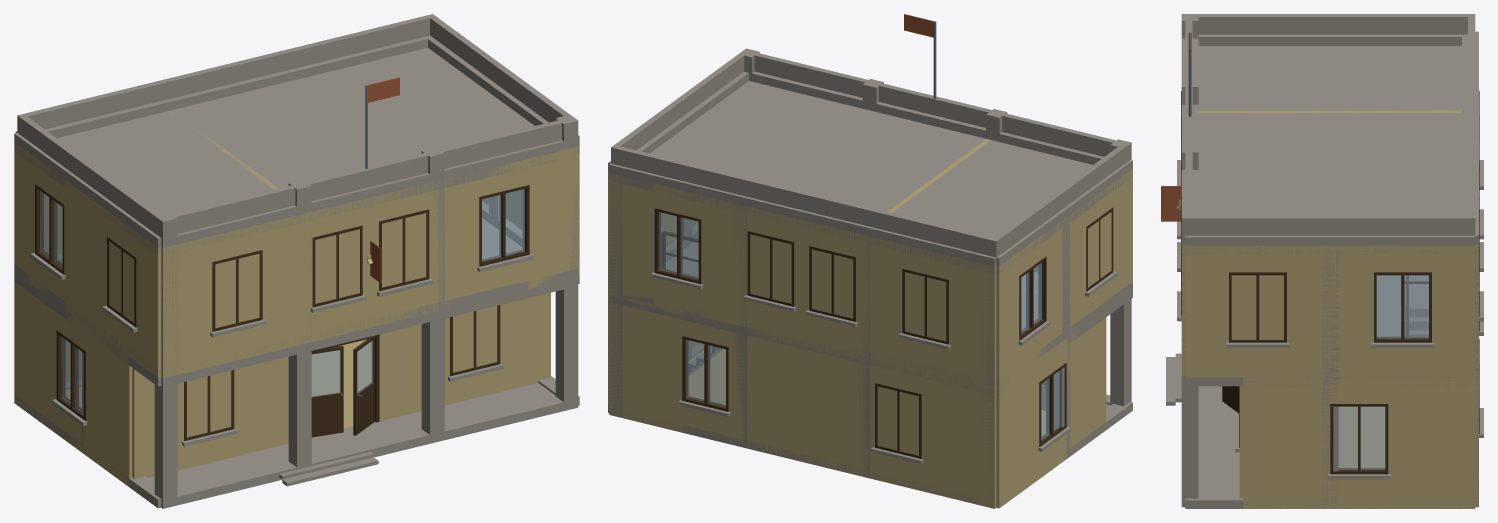
File: plain-utilitarian-concrete-town.glb
3 views of the same model, side by side, from view 1: azimuth 30°, elevation 25°; view 2: azimuth 150°, elevation 25°; view 3: azimuth 270°, elevation 25° (orthographic). The views are drawn at different scales.
Parts seen in each view (by area): view 1: Mesh_RoofSlab, Mesh_SecondFloor_WallFront_R, Mesh_GroundFloor_WallFront_L, Mesh_SecondFloor_WallRight_R, Mesh_GroundFloor_WallFront_R, Mesh_ParapetBack, Mesh_ParapetFront, Mesh_FrontTopBand, Mesh_SecondFloor_WallFront_L, Mesh_GroundFloor_WallRight_R, Mesh_FrontBaseBand, Mesh_VerandaFloor (+32 smaller); view 2: Mesh_SecondFloor_WallBack_R, Mesh_RoofSlab, Mesh_GroundFloor_WallBack_R, Mesh_SecondFloor_WallRight_R, Mesh_GroundFloor_WallBack_L, Mesh_ParapetBack, Mesh_ParapetFront, Mesh_BackTopBand, Mesh_GroundFloor_WallRight_L, Mesh_SecondFloor_WallBack_L, Mesh_GroundFloor_WallRight_R, Mesh_FrontTopBand (+27 smaller); view 3: Mesh_RoofSlab, Mesh_SecondFloor_WallLeft_R, Mesh_GroundFloor_WallLeft_L, Mesh_GroundFloor_WallLeft_R, Mesh_SecondFloor_WallLeft_L, Mesh_ParapetLeft, Mesh_ParapetRight, Mesh_VerandaFloor, Mesh_LeftTopBand, Mesh_GlassLeft (×2), Mesh_RightTopBand, Mesh_SideColumnLeft (+26 smaller).
Part boxes in pixels (x1,y1,x2,y2): Mesh_RoofSlab: [57, 47, 534, 214]; Mesh_SecondFloor_WallFront_R: [161, 172, 479, 378]; Mesh_GroundFloor_WallFront_L: [379, 293, 549, 421]; Mesh_SecondFloor_WallRight_R: [64, 179, 161, 377]; Mesh_GroundFloor_WallFront_R: [132, 356, 288, 479]; Mesh_ParapetBack: [17, 14, 435, 134]; Mesh_ParapetFront: [157, 117, 575, 237]; Mesh_FrontTopBand: [161, 138, 578, 254]; Mesh_SecondFloor_WallFront_L: [529, 147, 578, 288]; Mesh_GroundFloor_WallRight_R: [86, 326, 132, 486]; Mesh_FrontBaseBand: [161, 396, 578, 508]; Mesh_VerandaFloor: [148, 383, 555, 488]; Mesh_SecondFloor_WallBack_R: [701, 195, 996, 387]; Mesh_RoofSlab: [650, 81, 1092, 237]; Mesh_GroundFloor_WallBack_R: [728, 323, 996, 508]; Mesh_SecondFloor_WallRight_R: [1046, 169, 1132, 349]; Mesh_GroundFloor_WallBack_L: [609, 294, 682, 432]; Mesh_ParapetBack: [611, 145, 999, 257]; Mesh_ParapetFront: [742, 49, 1129, 161]; Mesh_BackTopBand: [609, 163, 996, 274]; Mesh_GroundFloor_WallRight_L: [996, 358, 1039, 508]; Mesh_SecondFloor_WallBack_L: [609, 173, 654, 299]; Mesh_GroundFloor_WallRight_R: [1066, 317, 1106, 456]; Mesh_FrontTopBand: [749, 71, 1131, 164]; Mesh_RoofSlab: [1198, 46, 1461, 215]; Mesh_SecondFloor_WallLeft_R: [1185, 246, 1373, 377]; Mesh_GroundFloor_WallLeft_L: [1388, 377, 1475, 508]; Mesh_GroundFloor_WallLeft_R: [1243, 377, 1330, 508]; Mesh_SecondFloor_WallLeft_L: [1432, 246, 1475, 377]; Mesh_ParapetLeft: [1192, 215, 1467, 235]; Mesh_ParapetRight: [1192, 14, 1467, 34]; Mesh_VerandaFloor: [1198, 386, 1239, 492]; Mesh_LeftTopBand: [1185, 235, 1475, 254]; Mesh_GlassLeft (×2): [1360, 275, 1428, 469]; Mesh_RightTopBand: [1198, 34, 1467, 45]; Mesh_SideColumnLeft: [1322, 246, 1338, 508].
Size of the model in its own units: 10.35 by 8.51 by 6.68.
Materials: 4 (4 with a texture image).
